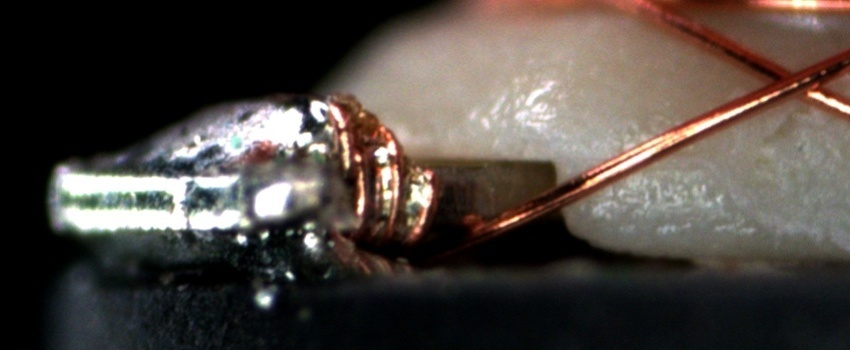CL: (743, 52, 846, 111)
DL: (594, 143, 721, 192)
TE: (314, 92, 443, 253)
